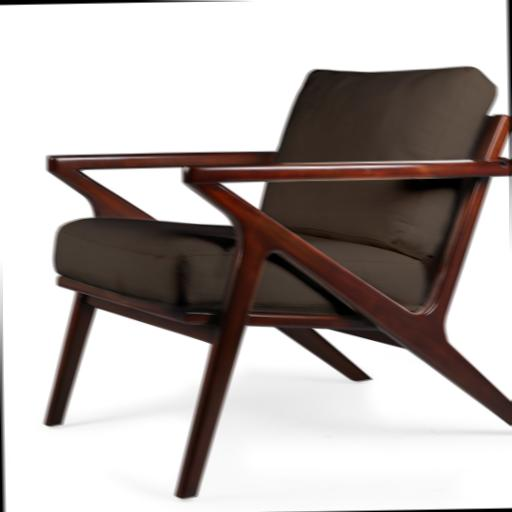chair: (37, 64, 512, 501)
